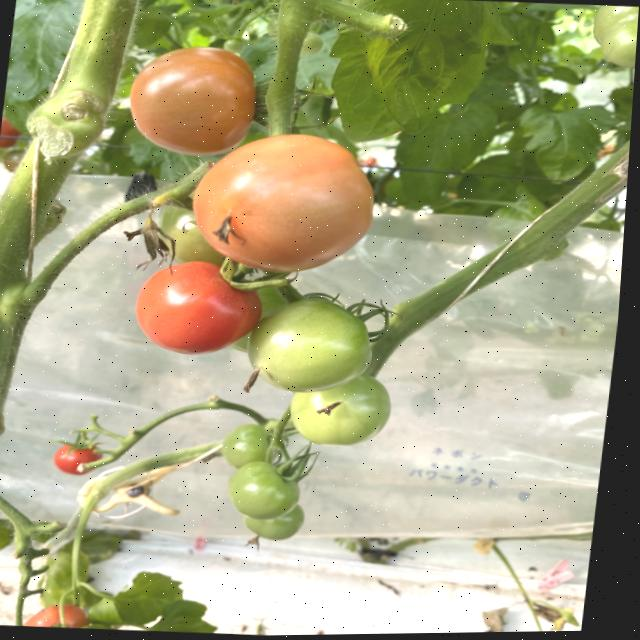ripe0: (245, 298, 380, 395), (284, 373, 394, 447), (227, 461, 304, 522)
ripe2: (121, 44, 262, 154), (131, 257, 270, 357)
